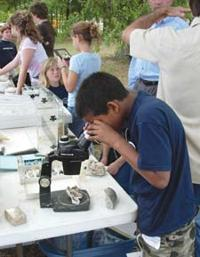person: (76, 72, 197, 257)
